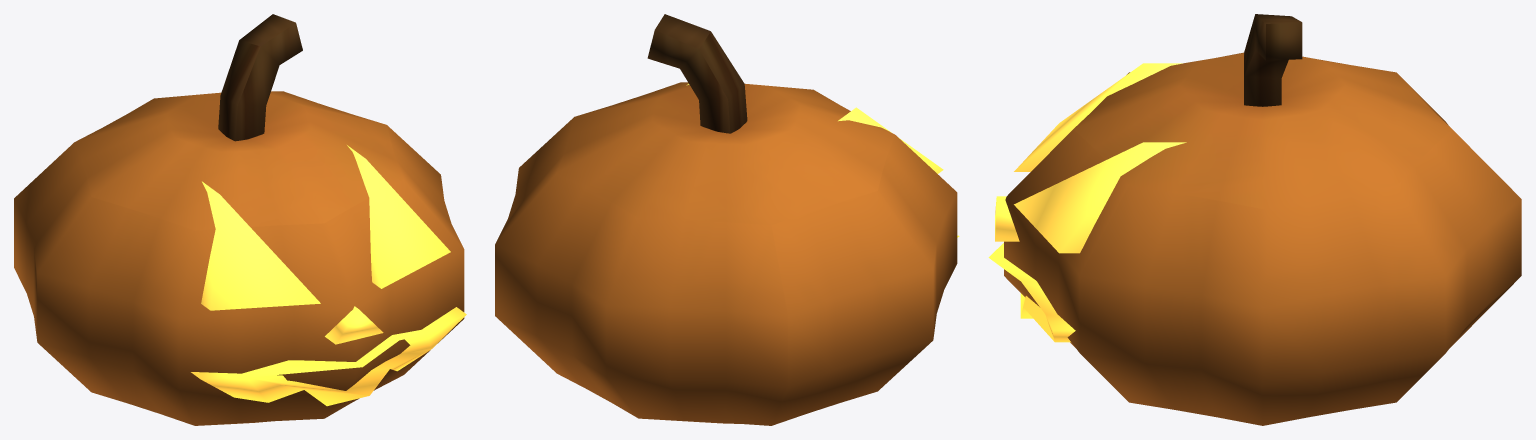
Rendered from pumpkin.glb.
3 renders of one model, left to right at view 1: azimuth 30°, elevation 25°; view 2: azimuth 150°, elevation 25°; view 3: azimuth 270°, elevation 25°, orthographic. The views are drawn at different scales.
Parts seen in each view (by area): view 1: prop.pumpkin.mesh, candle; view 2: prop.pumpkin.mesh, candle; view 3: prop.pumpkin.mesh, candle.
Boxes of the visible parts, left/top/right/bottom form: prop.pumpkin.mesh: left=14, top=14, right=464, bottom=425; candle: left=191, top=145, right=466, bottom=406; prop.pumpkin.mesh: left=495, top=14, right=957, bottom=425; candle: left=686, top=84, right=959, bottom=237; prop.pumpkin.mesh: left=1004, top=14, right=1521, bottom=425; candle: left=988, top=63, right=1186, bottom=342.
Bounding box in the file's own units: 0.483 × 0.4174 × 0.4975.
Materials: 3 (2 with a texture image).
